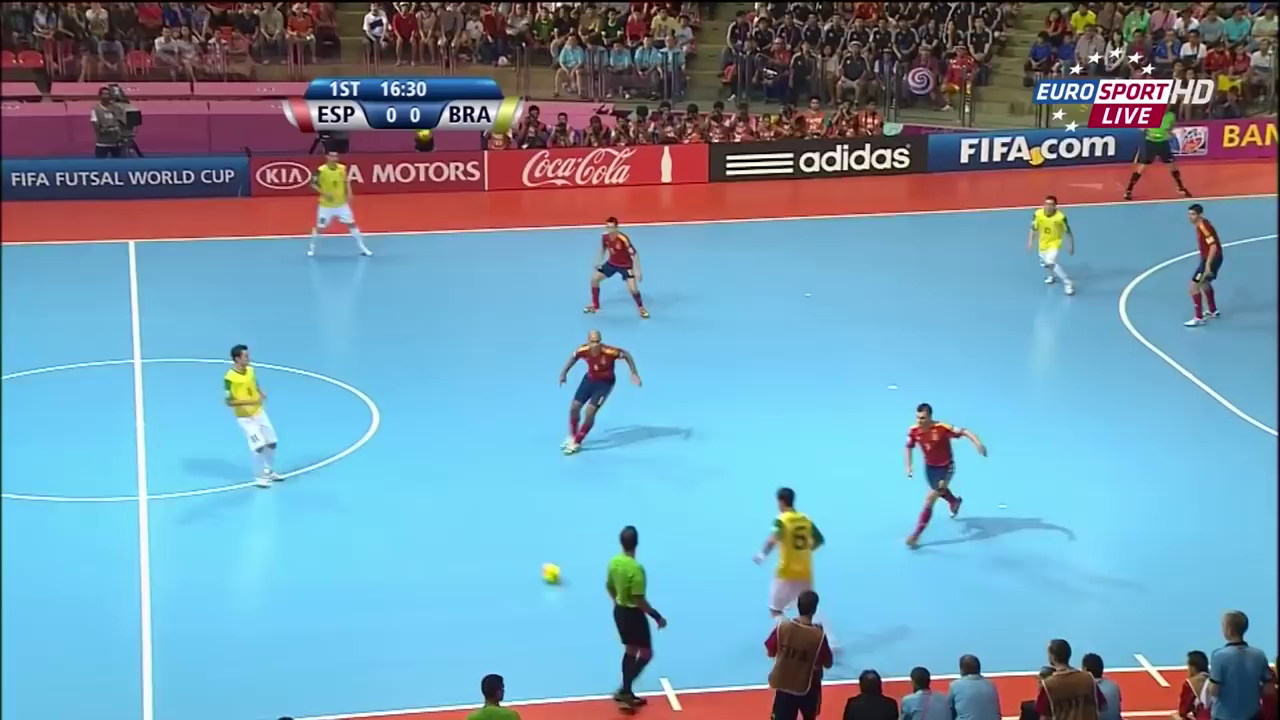ball: (538, 560, 567, 584)
person: (891, 407, 989, 553), (209, 346, 282, 493), (560, 329, 644, 455), (748, 493, 822, 596), (306, 155, 371, 263), (581, 218, 647, 317), (1175, 200, 1224, 325), (1026, 193, 1079, 296)
